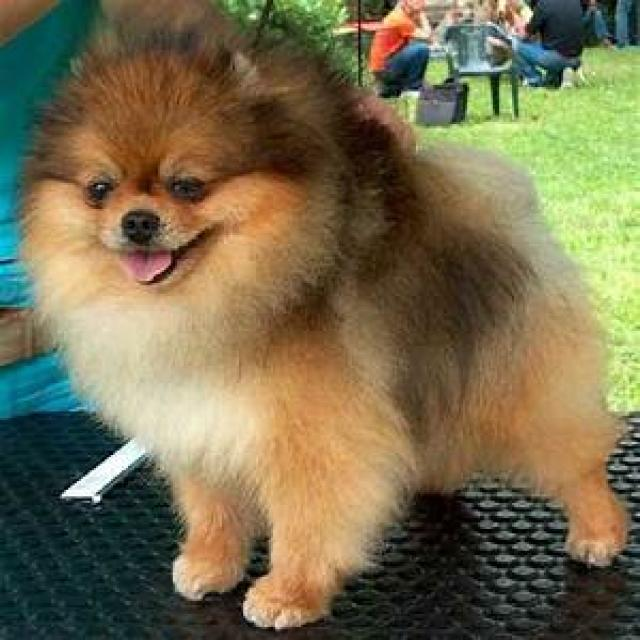animal: (15, 9, 629, 631)
